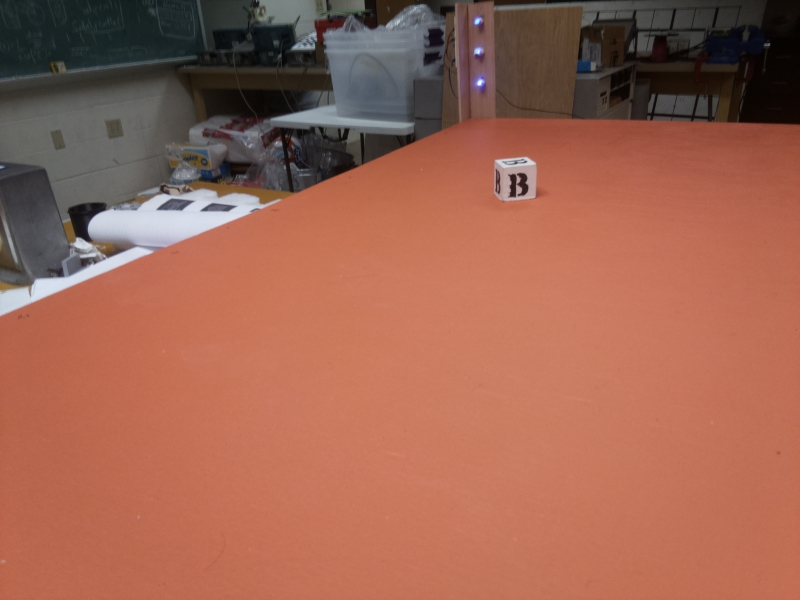blockB: (496, 155, 537, 205)
corner: (454, 4, 501, 124)
